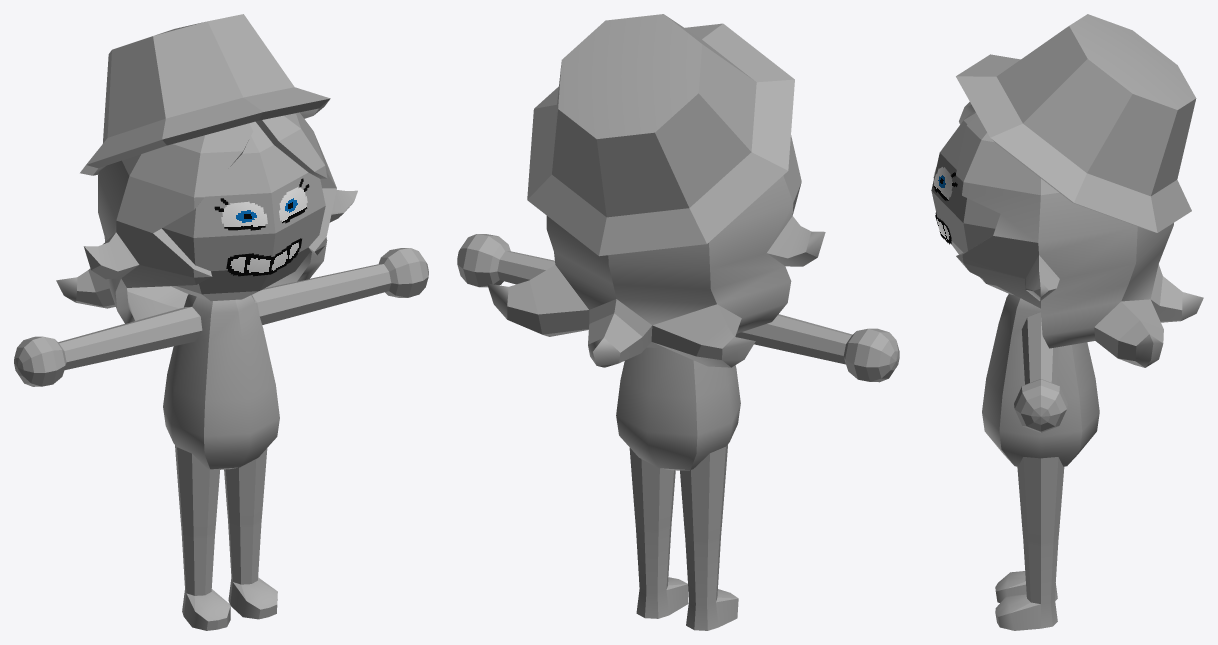
3 renders of one model, left to right at view 1: azimuth 30°, elevation 25°; view 2: azimuth 150°, elevation 25°; view 3: azimuth 270°, elevation 25°, orthographic. The views are drawn at different scales.
Parts seen in each view (by area): view 1: SM_OL_Head, SM_Hat, Puppet_0011:SM_Body, Puppet_0011:SM_ArmR, Puppet_0011:SM_LegR, Puppet_0011:SM_ArmL, Puppet_0011:SM_LegL, SM_FacePlane; view 2: SM_Hat, SM_OL_Head, Puppet_0011:SM_Body, Puppet_0011:SM_LegR, Puppet_0011:SM_LegL, Puppet_0011:SM_ArmR, Puppet_0011:SM_ArmL; view 3: SM_Hat, SM_OL_Head, Puppet_0011:SM_Body, Puppet_0011:SM_LegL, Puppet_0011:SM_ArmL, SM_FacePlane, Puppet_0011:SM_LegR.
Part boxes in pixels (<box>): SM_OL_Head: <box>56,112,357,323</box>; SM_Hat: <box>80,14,330,175</box>; Puppet_0011:SM_Body: <box>163,294,279,469</box>; Puppet_0011:SM_ArmR: <box>14,306,202,386</box>; Puppet_0011:SM_LegR: <box>175,445,230,630</box>; Puppet_0011:SM_ArmL: <box>252,248,428,324</box>; Puppet_0011:SM_LegL: <box>224,448,277,619</box>; SM_FacePlane: <box>214,178,309,276</box>; SM_Hat: <box>527,14,794,256</box>; SM_OL_Head: <box>487,135,825,367</box>; Puppet_0011:SM_Body: <box>616,347,740,470</box>; Puppet_0011:SM_LegR: <box>680,444,738,630</box>; Puppet_0011:SM_LegL: <box>629,448,688,618</box>; Puppet_0011:SM_ArmR: <box>735,314,899,382</box>; Puppet_0011:SM_ArmL: <box>457,234,555,287</box>; SM_Hat: <box>956,14,1196,232</box>; SM_OL_Head: <box>931,102,1203,367</box>; Puppet_0011:SM_Body: <box>982,294,1099,466</box>; Puppet_0011:SM_LegL: <box>995,457,1064,630</box>; Puppet_0011:SM_ArmL: <box>1014,312,1067,432</box>; SM_FacePlane: <box>933,167,957,244</box>; Puppet_0011:SM_LegR: <box>995,571,1057,602</box>.
Size of the model in its own units: 4.37 by 5.89 by 2.52.
Materials: 2 (1 with a texture image).
